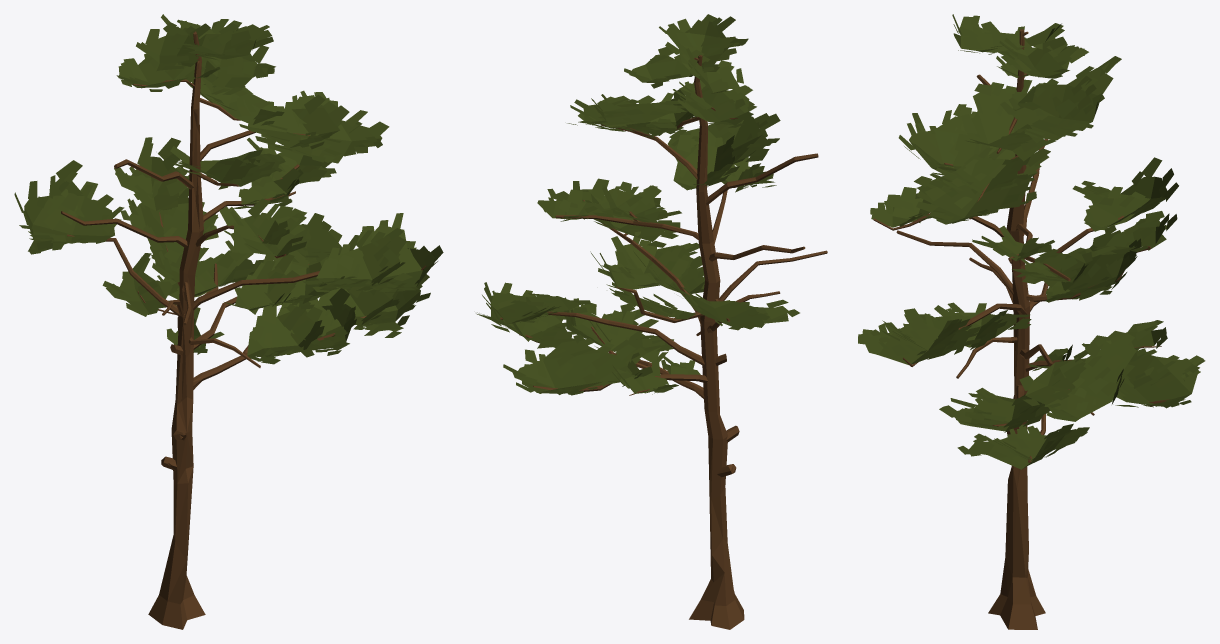
File: tree-pine-mature-a.gltf
The picture shows the model from 3 angles, left to right: view 1: azimuth 30°, elevation 25°; view 2: azimuth 150°, elevation 25°; view 3: azimuth 270°, elevation 25°; orthographic projection. The views are drawn at different scales.
Parts seen in each view (by area): view 1: tree-pine-mature-a; view 2: tree-pine-mature-a; view 3: tree-pine-mature-a.
Boxes of the visible parts, left/top/right/bottom form: tree-pine-mature-a: left=14, top=14, right=443, bottom=629; tree-pine-mature-a: left=476, top=14, right=827, bottom=629; tree-pine-mature-a: left=858, top=14, right=1205, bottom=629.
Size of the model in its own units: 0.0756 by 0.1186 by 0.0612.
